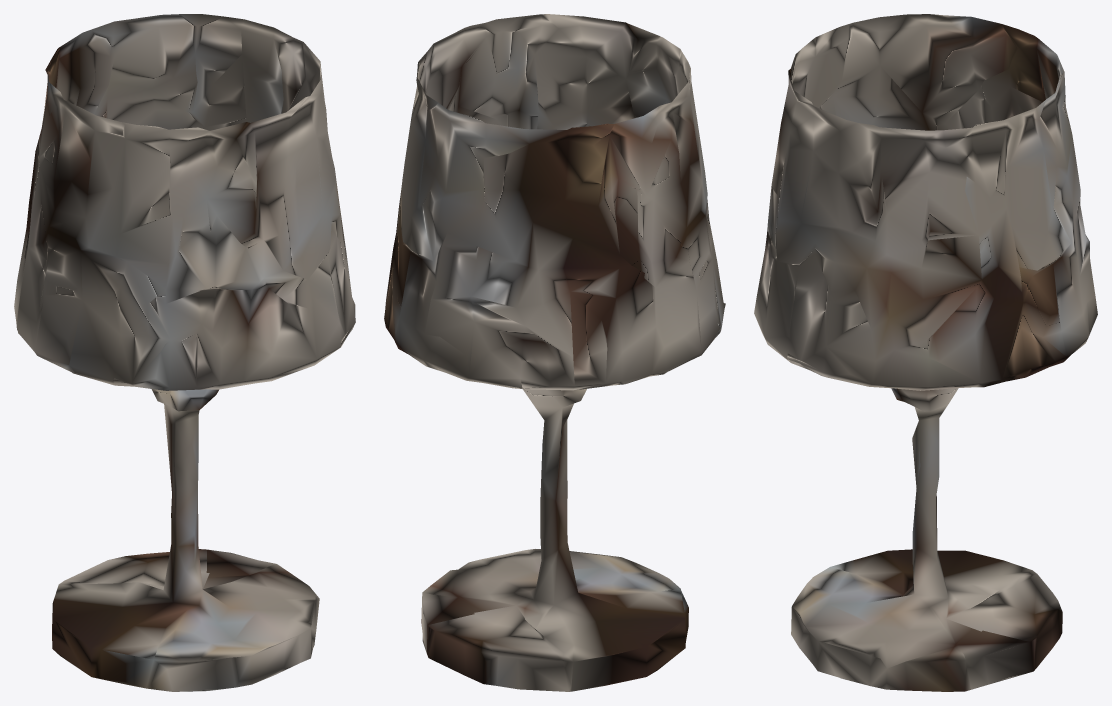
Rendered from velador.glb.
3 views of the same model, side by side, from view 1: azimuth 30°, elevation 25°; view 2: azimuth 150°, elevation 25°; view 3: azimuth 270°, elevation 25° (orthographic).
Parts seen in each view (by area): view 1: tripo_node_adb453ea-4bbf-4427-b519-86897dadab34; view 2: tripo_node_adb453ea-4bbf-4427-b519-86897dadab34; view 3: tripo_node_adb453ea-4bbf-4427-b519-86897dadab34.
Part boxes in pixels (x1,y1,x2,y2): tripo_node_adb453ea-4bbf-4427-b519-86897dadab34: (14, 14, 355, 691); tripo_node_adb453ea-4bbf-4427-b519-86897dadab34: (384, 14, 725, 691); tripo_node_adb453ea-4bbf-4427-b519-86897dadab34: (754, 14, 1097, 691).
Bounding box in the file's own units: 0.55 × 0.9995 × 0.5499.
